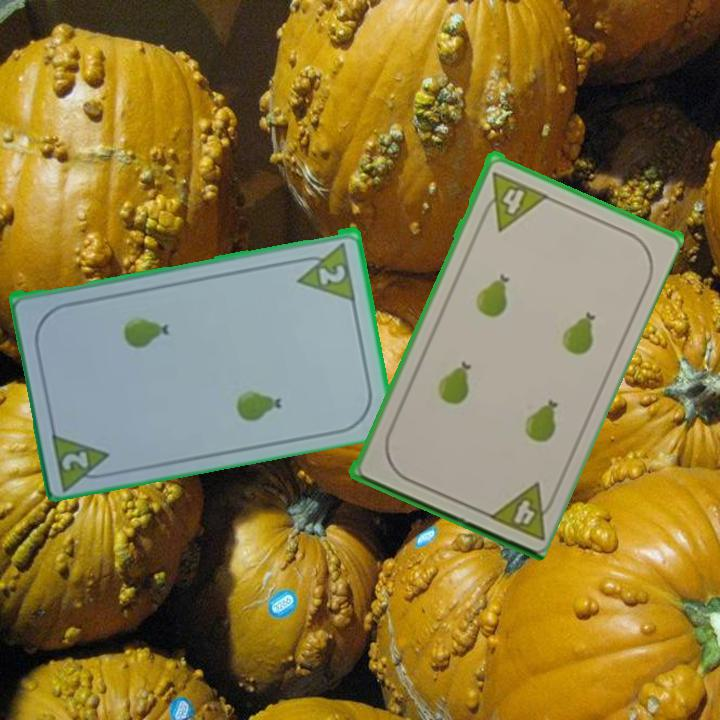2p: (291, 238, 358, 302), (58, 447, 92, 473)
4p: (482, 477, 561, 543), (476, 167, 549, 233)
